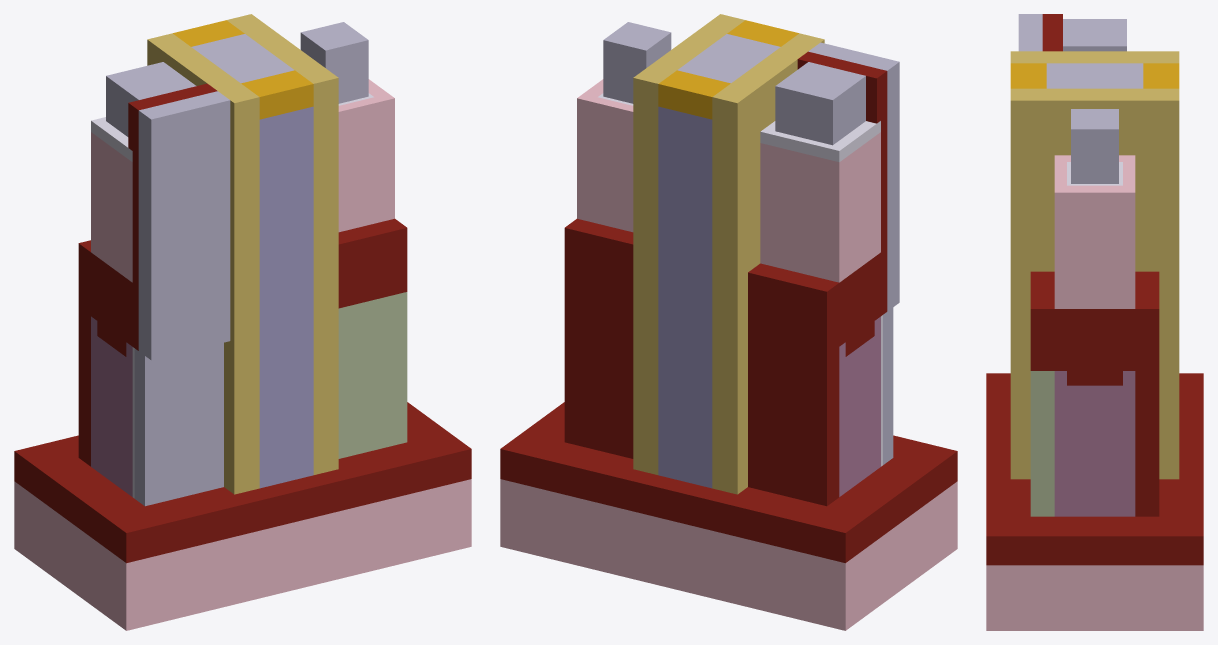
Rendered from cfet_mono.obj.
3 views of the same model, side by side, from view 1: azimuth 30°, elevation 25°; view 2: azimuth 150°, elevation 25°; view 3: azimuth 270°, elevation 25° (orthographic). The views are drawn at different scales.
Parts seen in each view (by area): view 1: ni_lo_source, substrate, box, mo, spacer_source, spacer_drain, tiox_drain, epi_n_drain, iso_source, epi_p_source, iso_drain, epi_n_source (+6 smaller); view 2: substrate, box, iso_source, mo, spacer_source, iso_drain, epi_n_source, spacer_drain, epi_n_drain, ni_source, epi_p_source, ni_lo_source (+5 smaller); view 3: spacer_drain, box, iso_drain, substrate, epi_p_drain, epi_n_drain, tiox_drain, ni_drain, gatew, spacer_source, ni_source, gatecap (+2 smaller).
Boxes of the visible parts, bbox=[...] form: ni_lo_source: bbox=[134, 91, 230, 506]; substrate: bbox=[14, 479, 471, 630]; box: bbox=[14, 402, 471, 563]; mo: bbox=[259, 106, 313, 488]; spacer_source: bbox=[147, 33, 259, 494]; spacer_drain: bbox=[226, 14, 338, 474]; tiox_drain: bbox=[338, 292, 407, 458]; epi_n_drain: bbox=[338, 79, 394, 232]; iso_source: bbox=[78, 240, 132, 466]; epi_p_source: bbox=[91, 316, 132, 496]; iso_drain: bbox=[338, 218, 407, 308]; epi_n_source: bbox=[91, 132, 132, 282]; substrate: bbox=[500, 479, 957, 630]; box: bbox=[500, 402, 957, 563]; iso_source: bbox=[748, 252, 880, 506]; mo: bbox=[658, 106, 712, 488]; spacer_source: bbox=[712, 33, 824, 494]; iso_drain: bbox=[564, 218, 633, 458]; epi_n_source: bbox=[760, 132, 880, 282]; spacer_drain: bbox=[633, 14, 745, 474]; epi_n_drain: bbox=[577, 79, 633, 232]; ni_source: bbox=[775, 62, 865, 145]; epi_p_source: bbox=[839, 316, 880, 496]; ni_lo_source: bbox=[808, 42, 899, 464]; spacer_drain: bbox=[1010, 88, 1179, 479]; box: bbox=[986, 373, 1203, 565]; iso_drain: bbox=[1030, 271, 1159, 516]; substrate: bbox=[986, 565, 1203, 630]; epi_p_drain: bbox=[1054, 371, 1135, 516]; epi_n_drain: bbox=[1054, 155, 1135, 308]; tiox_drain: bbox=[1030, 371, 1054, 516]; ni_drain: bbox=[1071, 109, 1118, 183]; gatew: bbox=[1046, 63, 1143, 88]; spacer_source: bbox=[1010, 51, 1179, 63]; ni_source: bbox=[1063, 19, 1126, 51]; gatecap: bbox=[1010, 63, 1179, 88].
Size of the model in its own units: 96 by 130 by 54.
